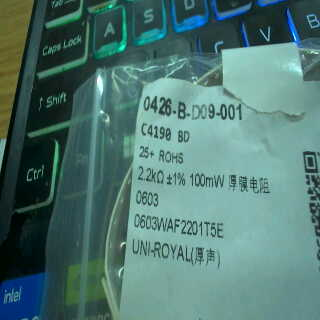2.2kR: (135, 164, 167, 187)
